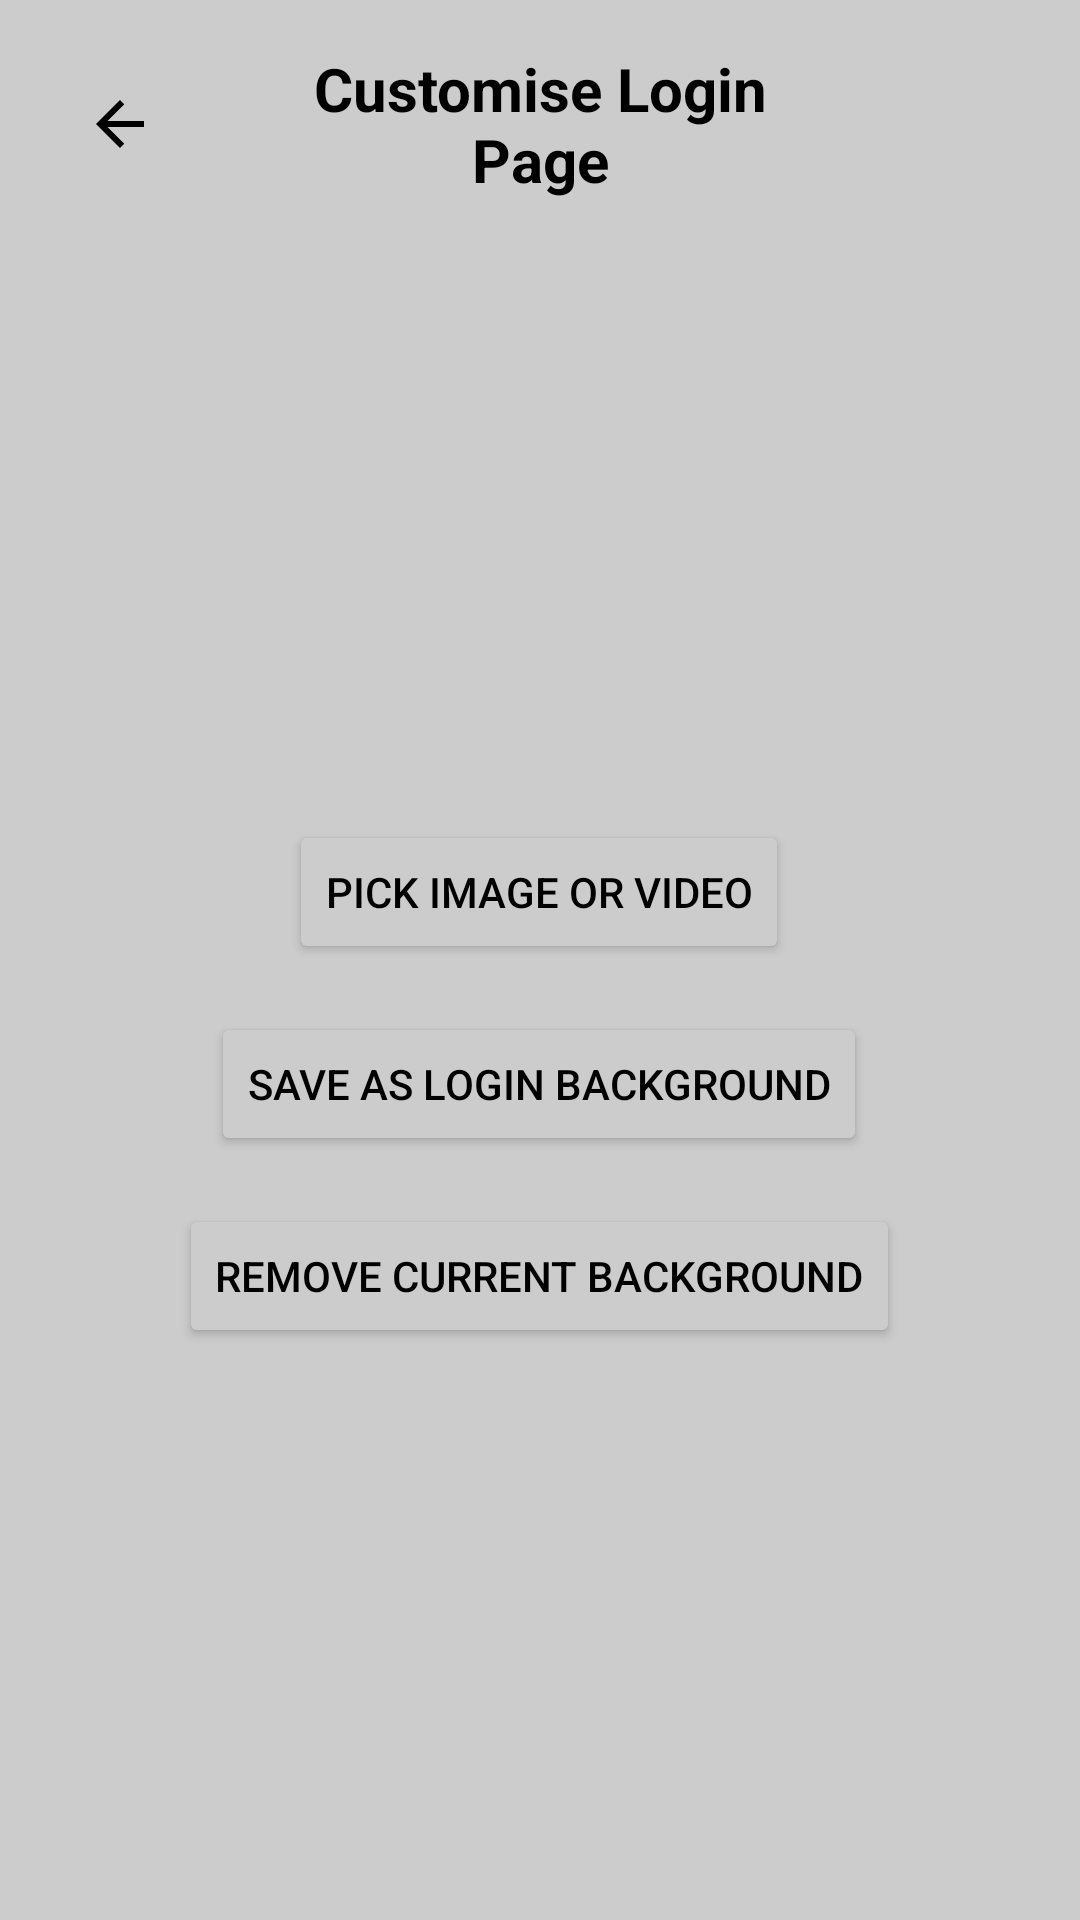

Icons on this 1080px x 1920px Android screen, each with the point to tap as [x,y]:
Back: [120,124]
